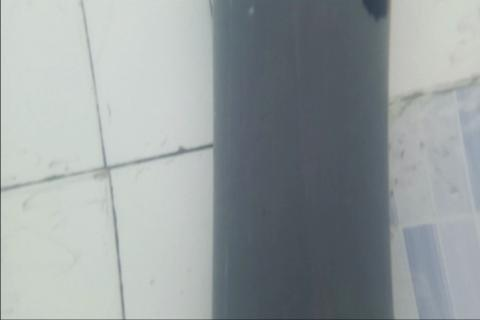kebocoran: (360, 0, 391, 26)
